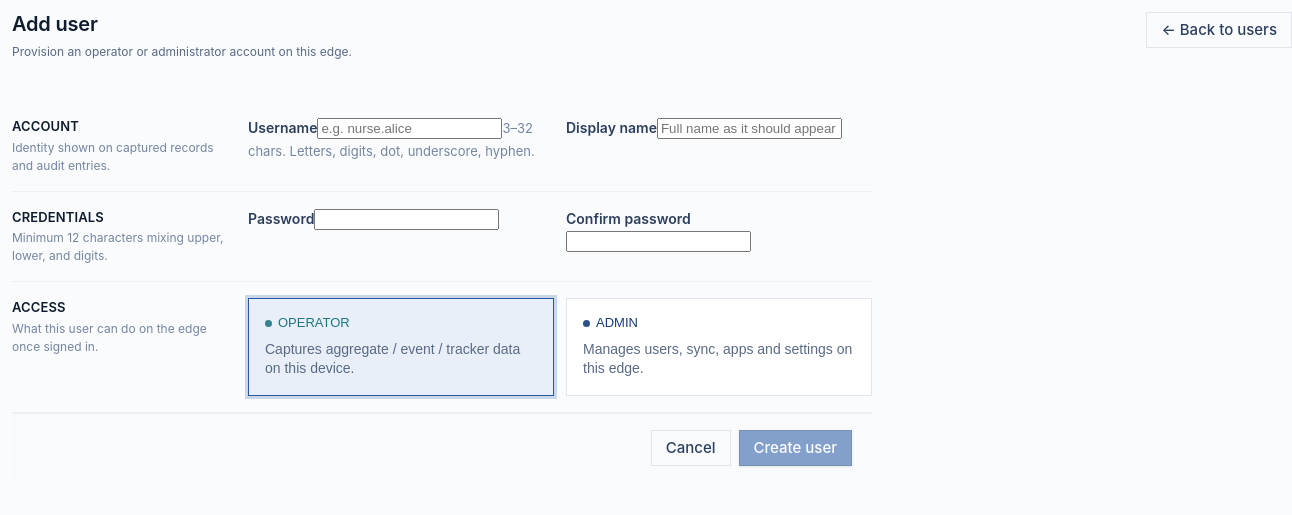
Test case: EA-03 UserCreate › shows per-field validation errors on blur
Step 1. Type "a" into the field with test id "ea03-username" → point(410, 128), box left=318, top=118, right=502, bottom=139
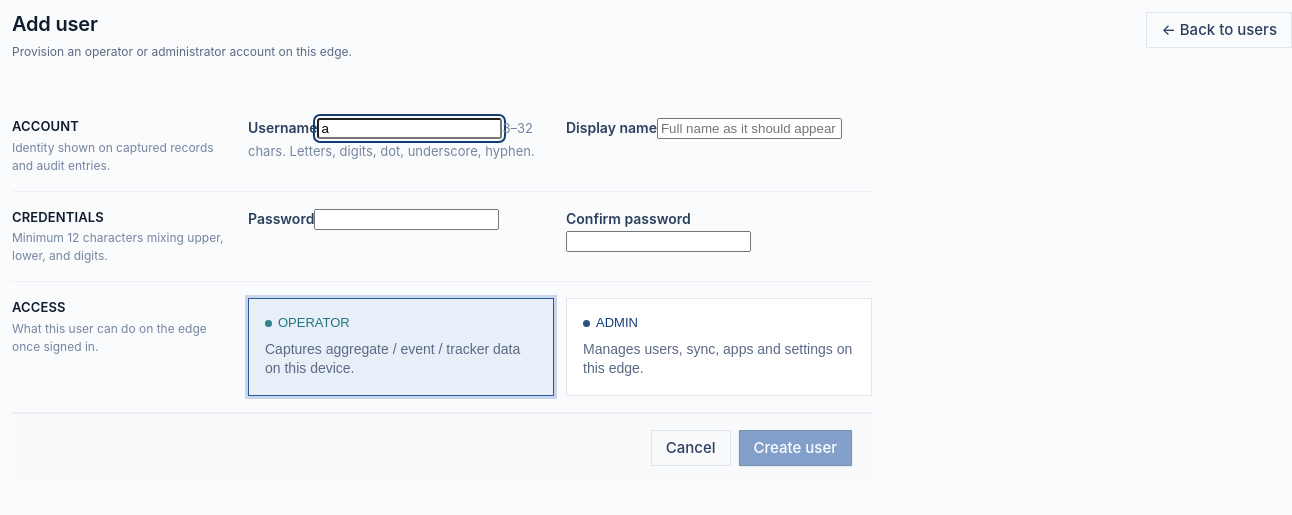
Step 2. Press Tab
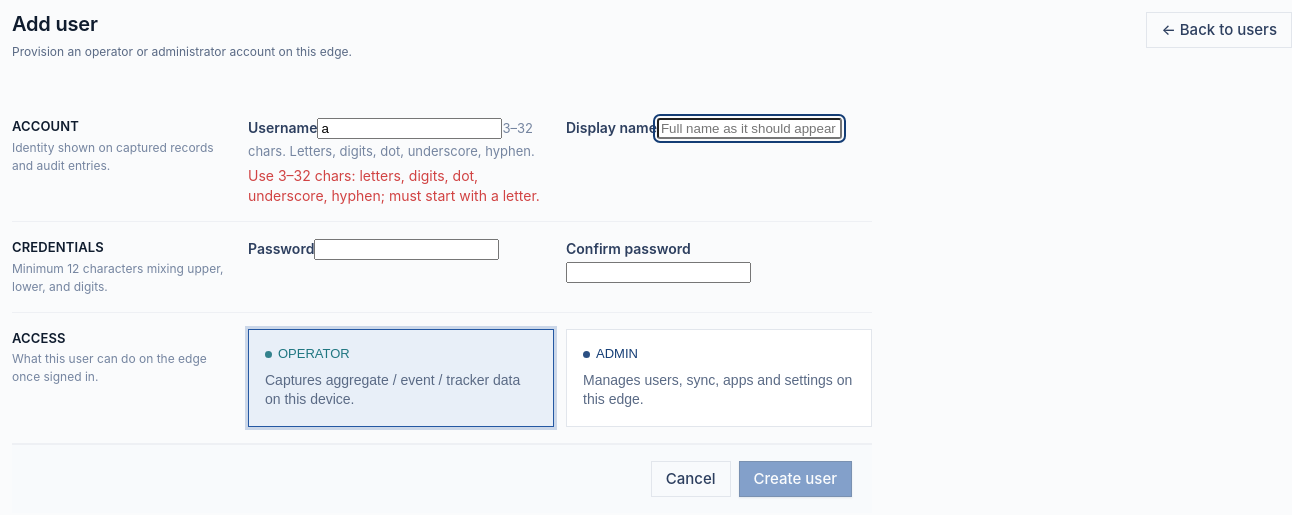
Result: the text with test id "ea03-err-username" is shown at left=248, top=166, right=554, bottom=205
